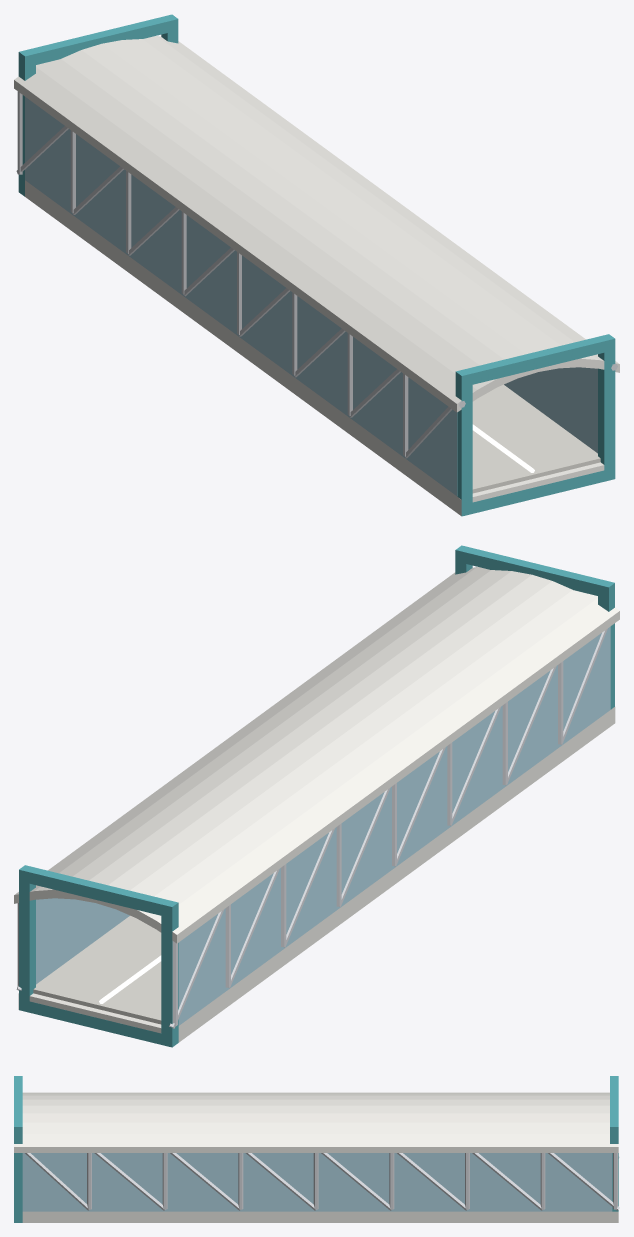
Rendered from arcology-towers-and-skyways-skybridge-straight-span-35041748__23245.glb.
The picture shows the model from 3 angles, top to bottom: view 1: azimuth 30°, elevation 25°; view 2: azimuth 150°, elevation 25°; view 3: azimuth 270°, elevation 25°; orthographic projection. The views are drawn at different scales.
Parts seen in each view (by area): view 1: skybridge-straight-span; view 2: skybridge-straight-span; view 3: skybridge-straight-span.
Boxes of the visible parts, box(x1,y1,x2,y2) form: skybridge-straight-span: box(14, 14, 619, 516); skybridge-straight-span: box(14, 545, 619, 1047); skybridge-straight-span: box(14, 1076, 619, 1222).
Size of the model in its own units: 5.1 by 4.2 by 24.06.
